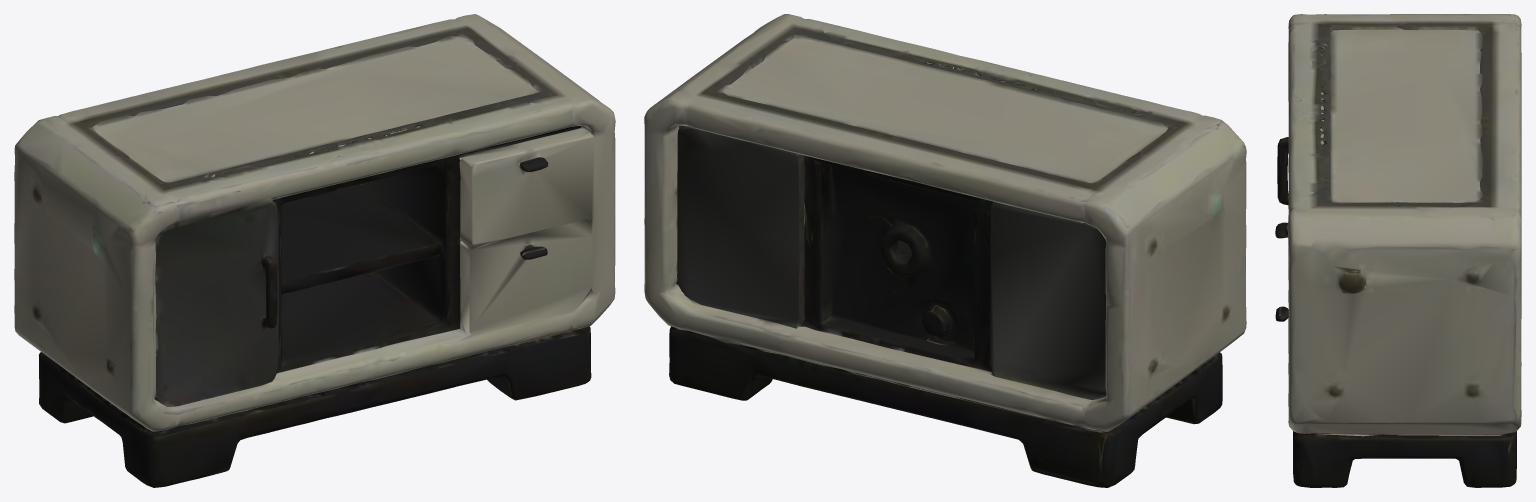
The model's file is tv_stand.glb.
3 views of the same model, side by side, from view 1: azimuth 30°, elevation 25°; view 2: azimuth 150°, elevation 25°; view 3: azimuth 270°, elevation 25° (orthographic). The views are drawn at different scales.
Parts seen in each view (by area): view 1: geometry_0; view 2: geometry_0; view 3: geometry_0.
Part boxes in pixels (x1,y1,x2,y2): geometry_0: [14, 14, 615, 487]; geometry_0: [644, 14, 1246, 487]; geometry_0: [1275, 14, 1521, 487].
Size of the model in its own units: 1 by 0.5586 by 0.4575.
1 material, 1 textured.
